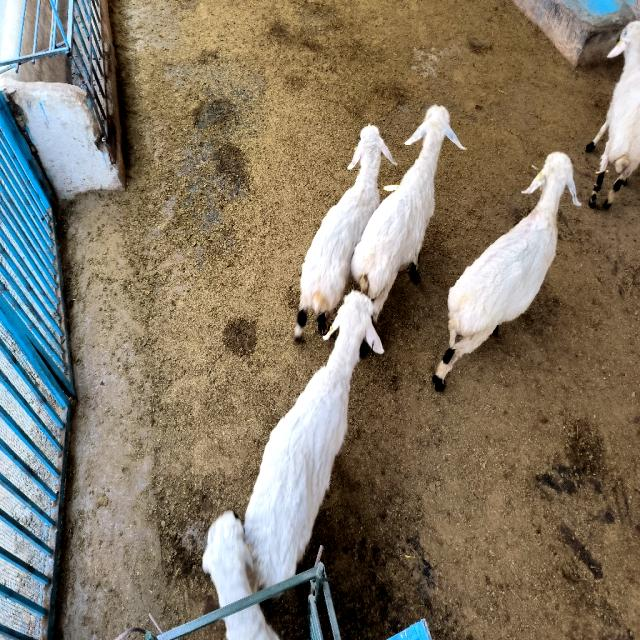sheep: (244, 290, 384, 589), (432, 152, 581, 390), (351, 107, 465, 321), (295, 125, 396, 339), (585, 22, 640, 207), (202, 510, 252, 606), (225, 605, 279, 640)
